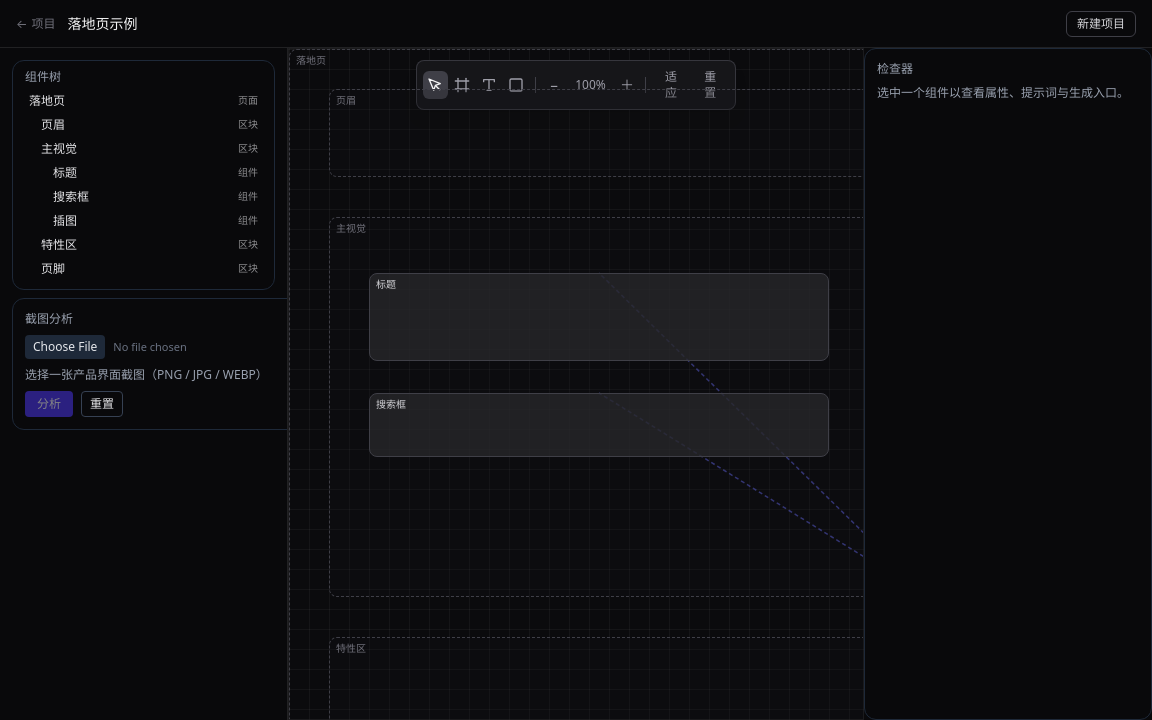
Test: WorkspaceView（产品闭环集成） › 从组件树选中组件 → Inspector 显示字段与 Prompt
Click the button "插图 组件" at x=144, y=221, box [21,209,266,233]
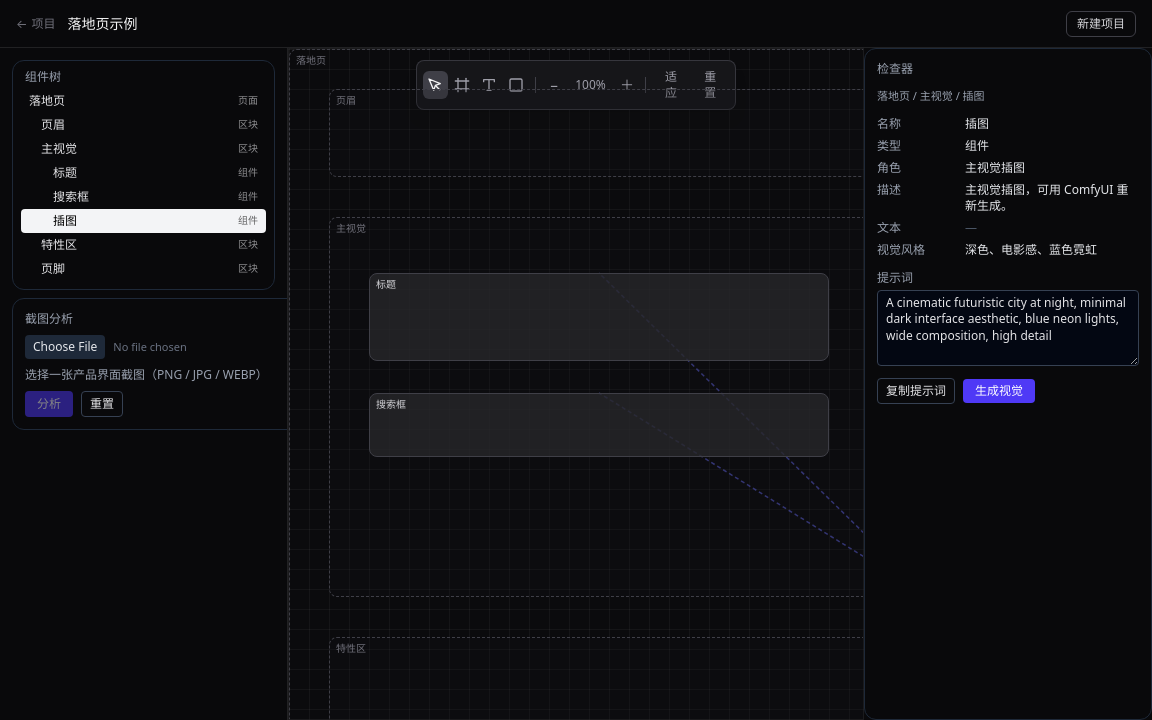
Expected: the text "插图" next to "名称" is shown, [965,115,989,132]
